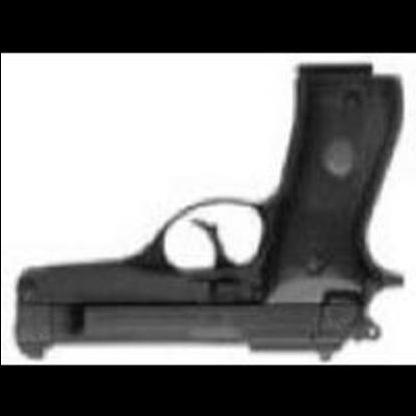weapon: (13, 60, 406, 357)
